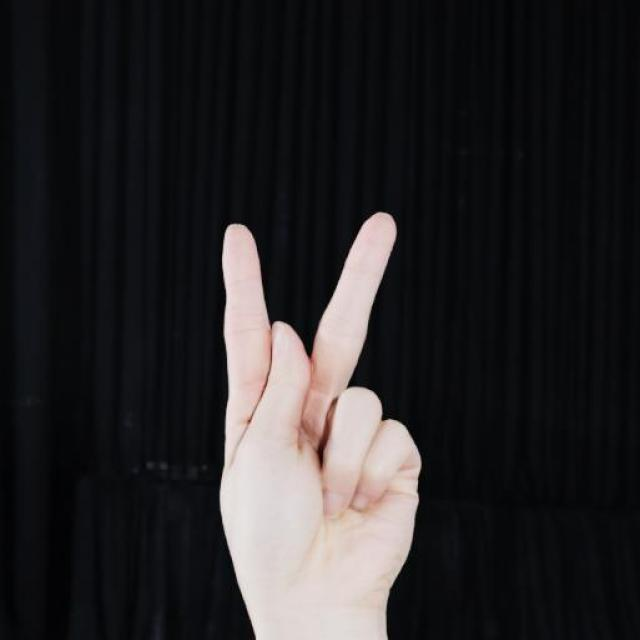K: (206, 207, 426, 640)
